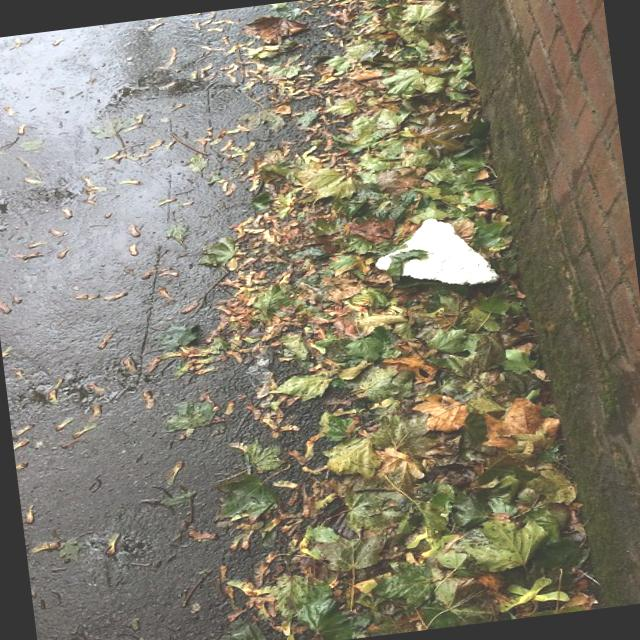Trash: (369, 212, 504, 299)
